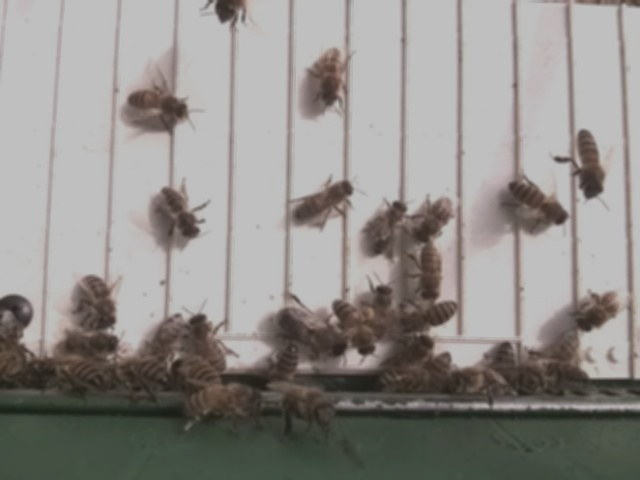Drone: (274, 304, 349, 358)
Worker: (505, 178, 572, 228), (293, 173, 357, 224), (158, 182, 206, 241), (570, 126, 608, 200), (336, 296, 378, 359), (570, 284, 624, 333), (400, 295, 464, 336), (124, 85, 195, 121), (369, 197, 411, 255), (412, 191, 456, 245), (187, 312, 227, 371), (117, 353, 177, 391), (79, 271, 117, 331), (51, 357, 109, 393), (318, 43, 349, 108), (415, 238, 446, 300), (62, 327, 121, 358), (370, 279, 396, 338), (269, 341, 300, 390)
